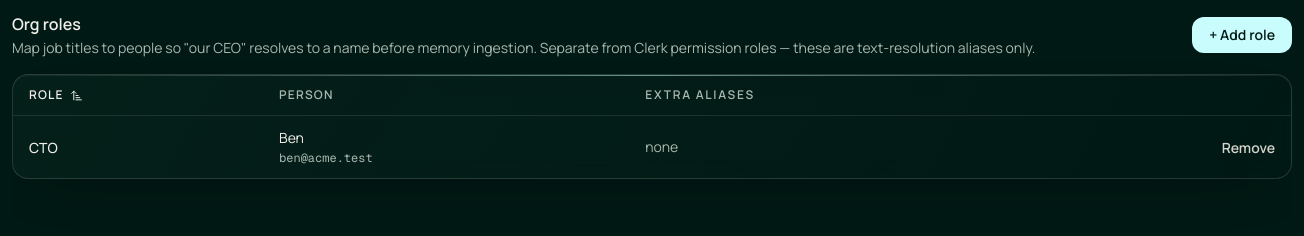
Test: org roles: Remove › reads the list again after a confirmed delete, and clears an earlier error
The width and height of the screenshot is (1304, 236).
What coordinates should you click on to do the following:
click the button "remove"
I would click on:
 (1248, 148)
Its box is [1222, 138, 1275, 158].
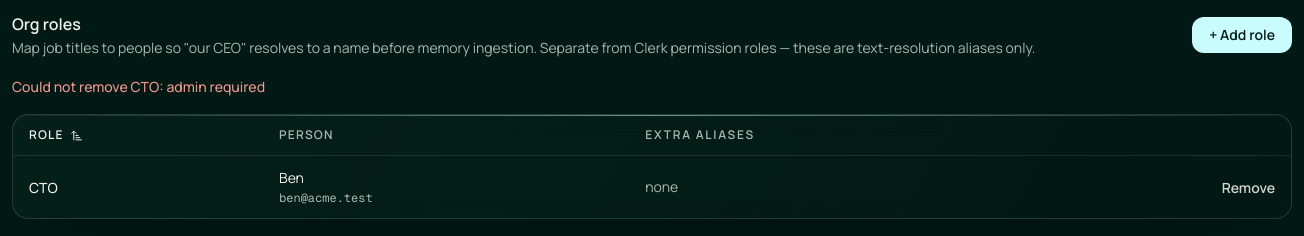
Expected: the message "Could not remove CTO: admin required" is shown, [12, 77, 265, 96]
What coordinates should you click on to do the following:
click the button "remove"
I would click on:
 (1248, 188)
Its box is [1222, 178, 1275, 198].
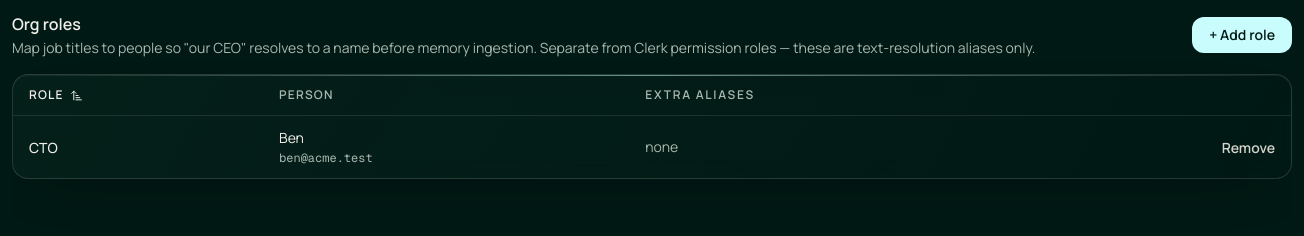
Expected: the message "Could not remove CTO: admin required" is gone
